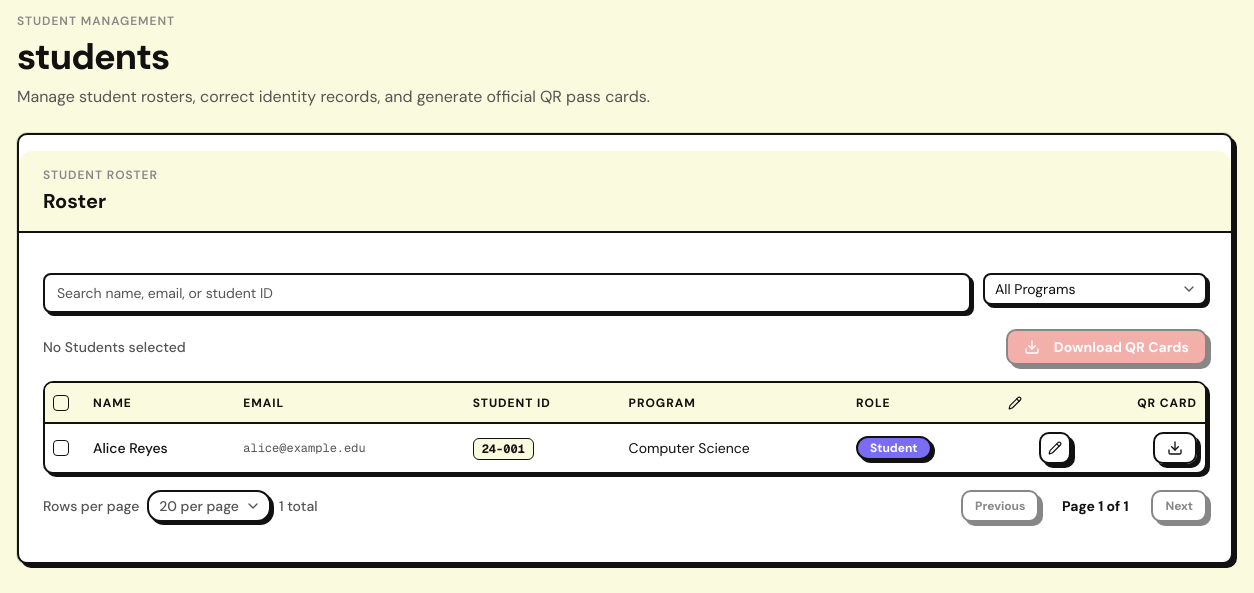
Test case: icon-only edit action (Issue #258) › still opens the inline Student ID / Program edit form when clicked
This screenshot has width=1254, height=593.
Click the button named "Edit student": (1055, 448) [1039,432,1071,464]
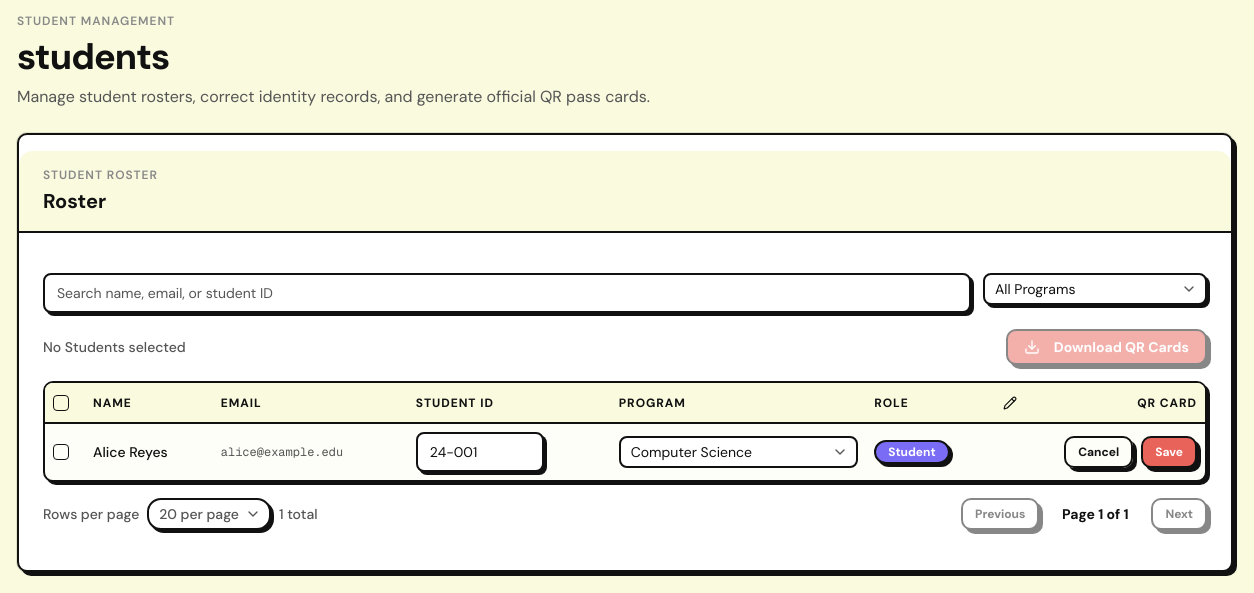
Result: the field showing "24-001" is shown at [416,432,544,472]
